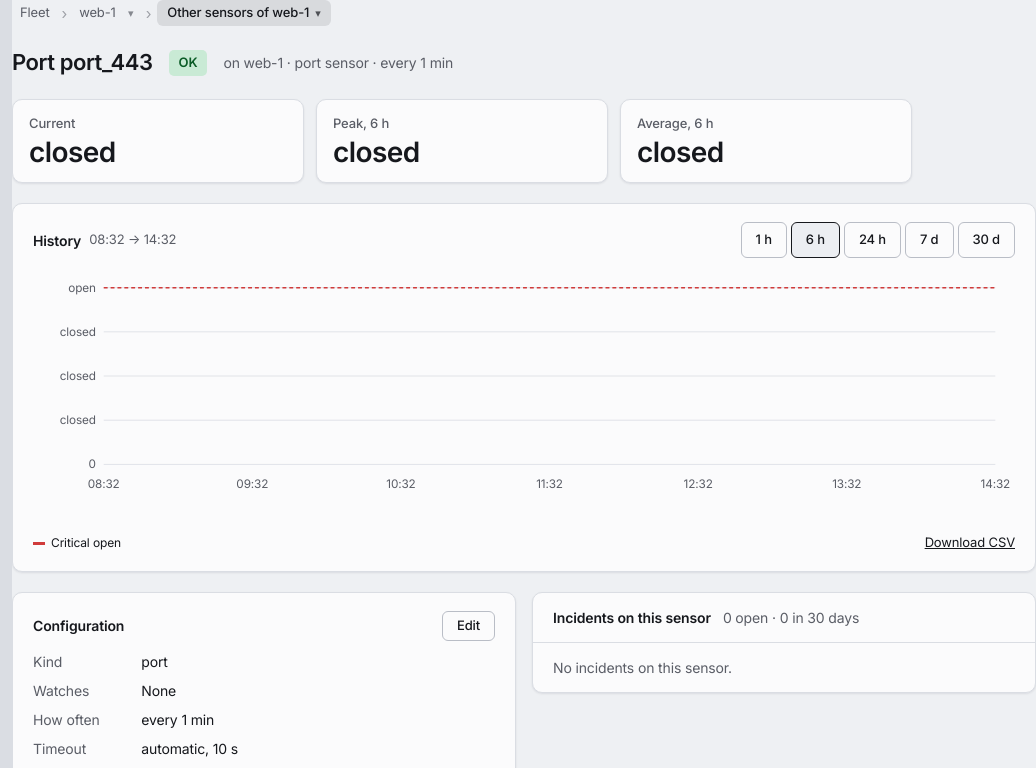
Test: SensorPage › editing the configuration › words a pass or fail check as when it fails, without levels
Click the button "Edit".
click(468, 626)  # box [442, 611, 495, 641]
(page scrolled)
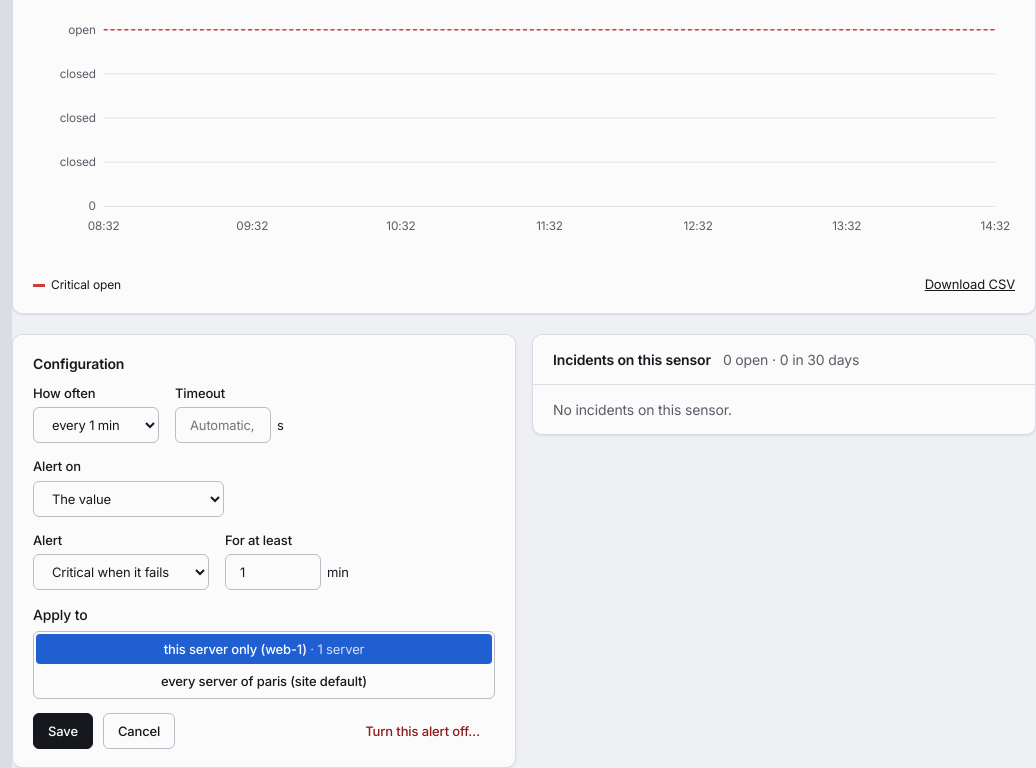
Expected: the dropdown labelled "Alert" shows "Critical when it fails", [33, 554, 209, 590]
Expected: the number of radio buttons is 2, [36, 634, 492, 664]; [36, 666, 492, 696]
